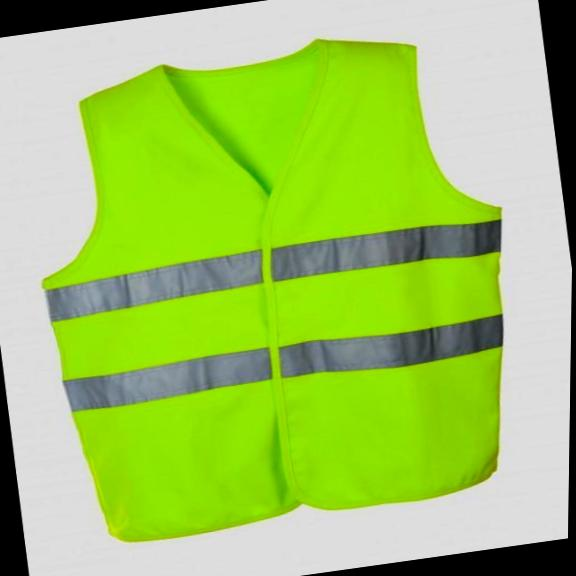safety_vest: (2, 15, 544, 554)
